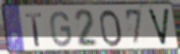2: (73, 8, 100, 50)
7: (124, 8, 144, 48)
G: (49, 11, 73, 49)
O: (99, 8, 124, 48)
T: (24, 12, 44, 48)
V: (146, 8, 171, 48)
